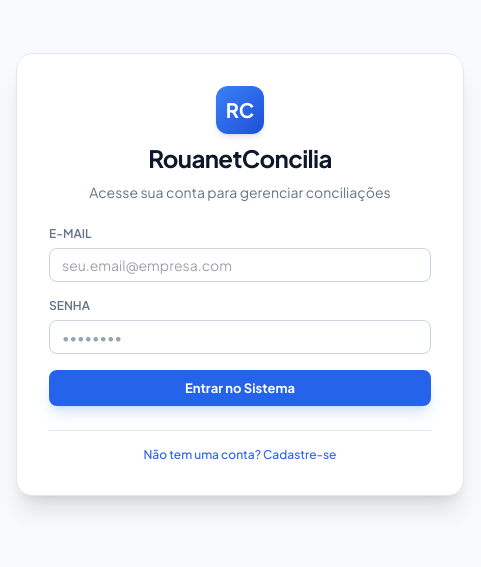
Test: LoginPage › anuncia erro de login
Type "teste@example.com" into the field labelled "E-mail" at {"x": 240, "y": 265}, box x1=49 y1=248 x2=431 y2=282
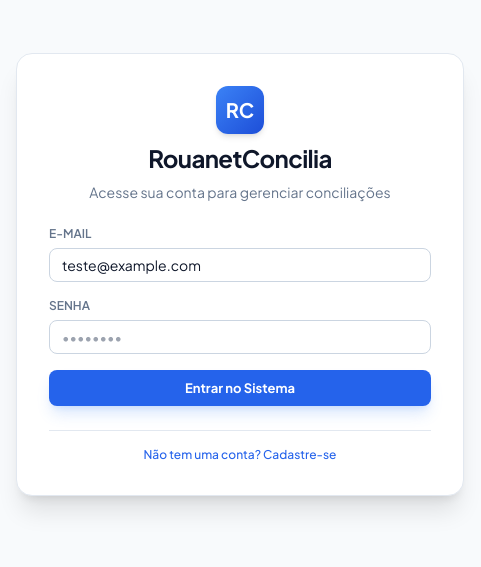
Type "senha-teste" into the password field labelled "Senha" at {"x": 240, "y": 337}, box x1=49 y1=320 x2=431 y2=354
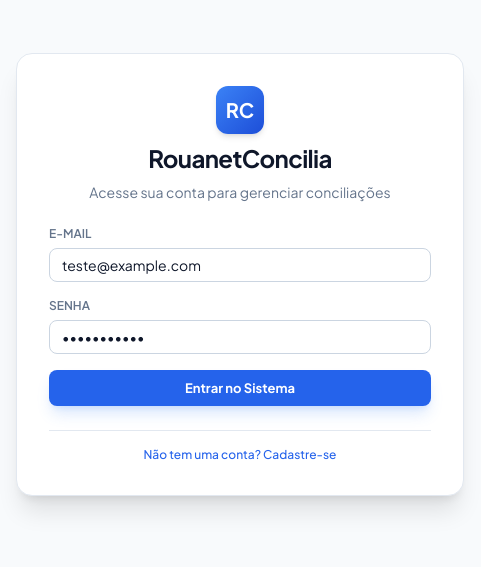
Click the button "Entrar no Sistema" at {"x": 240, "y": 388}, box x1=49 y1=370 x2=431 y2=406
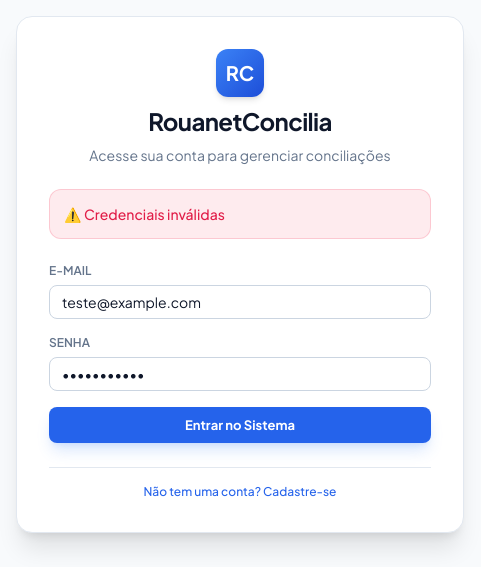
expect the message shows "Credenciais inválidas": met, box x1=84 y1=205 x2=225 y2=223
